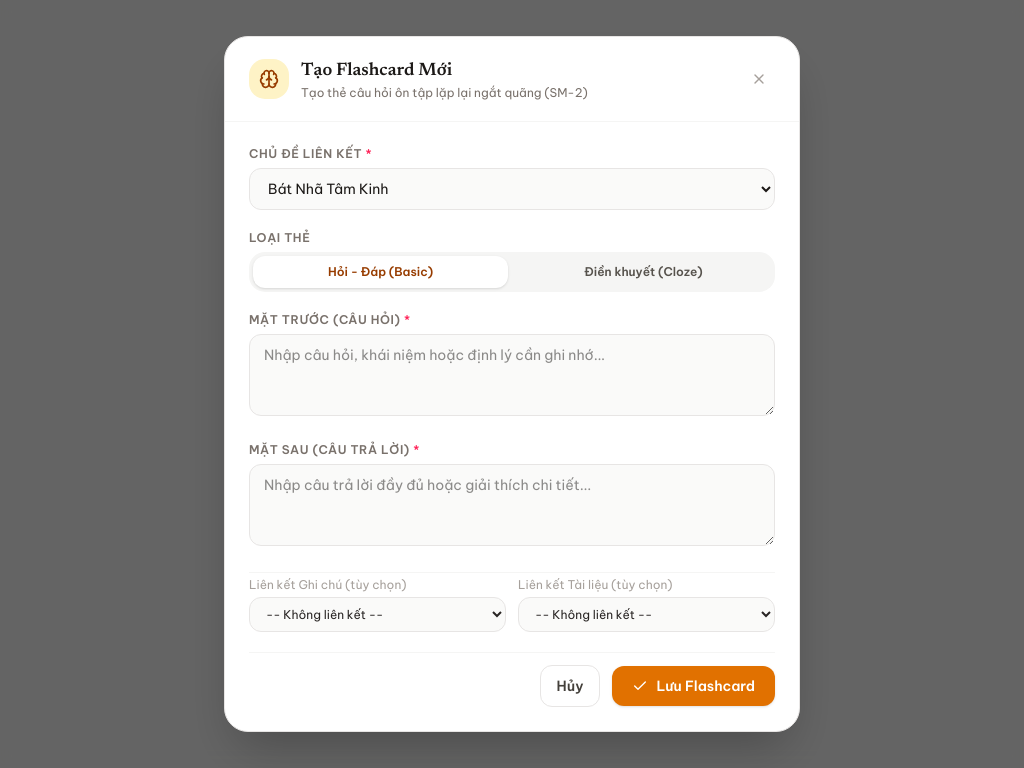
Test: FlashcardFormModal — Unit Tests › validates front bắt buộc (shows error when front is empty)
Type "Câu trả lời mẫu" into the text box with test id "input-back" at (512, 505), box x1=249 y1=464 x2=775 y2=546
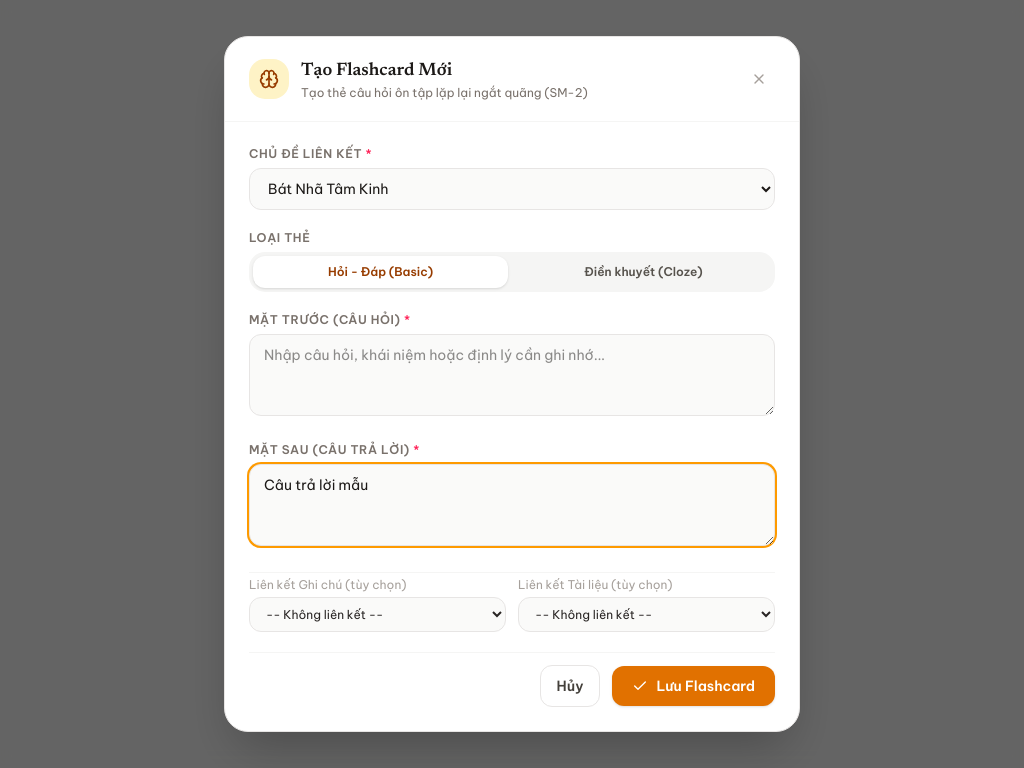
Click the button with test id "btn-submit-flashcard" at (694, 686), box x1=612 y1=666 x2=775 y2=706
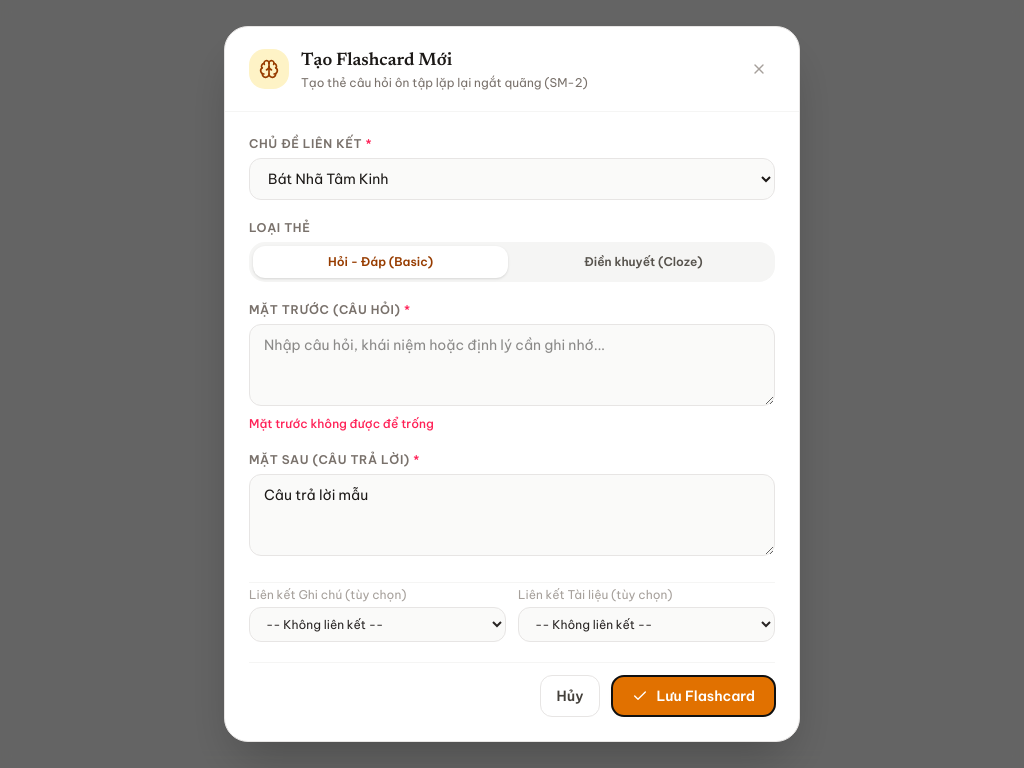
expect the text "Mặt trước không được để trống" is shown: met, box x1=249 y1=416 x2=434 y2=431
